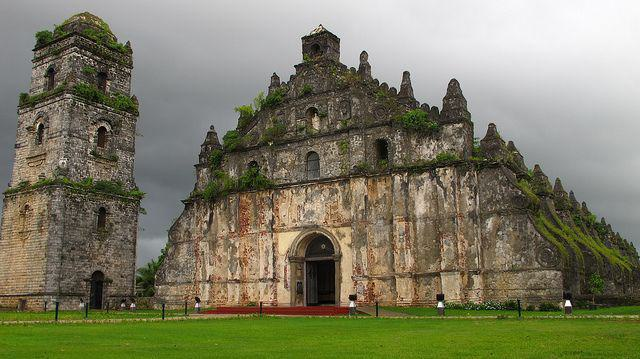paoay_church_paoay_ilocos_norte: (1, 10, 578, 319)
vegetation_damage: (198, 167, 275, 196), (72, 81, 141, 113), (65, 175, 139, 202), (400, 106, 438, 135), (16, 85, 67, 105), (3, 178, 66, 194), (33, 26, 76, 46), (217, 128, 249, 153), (263, 87, 288, 111)
